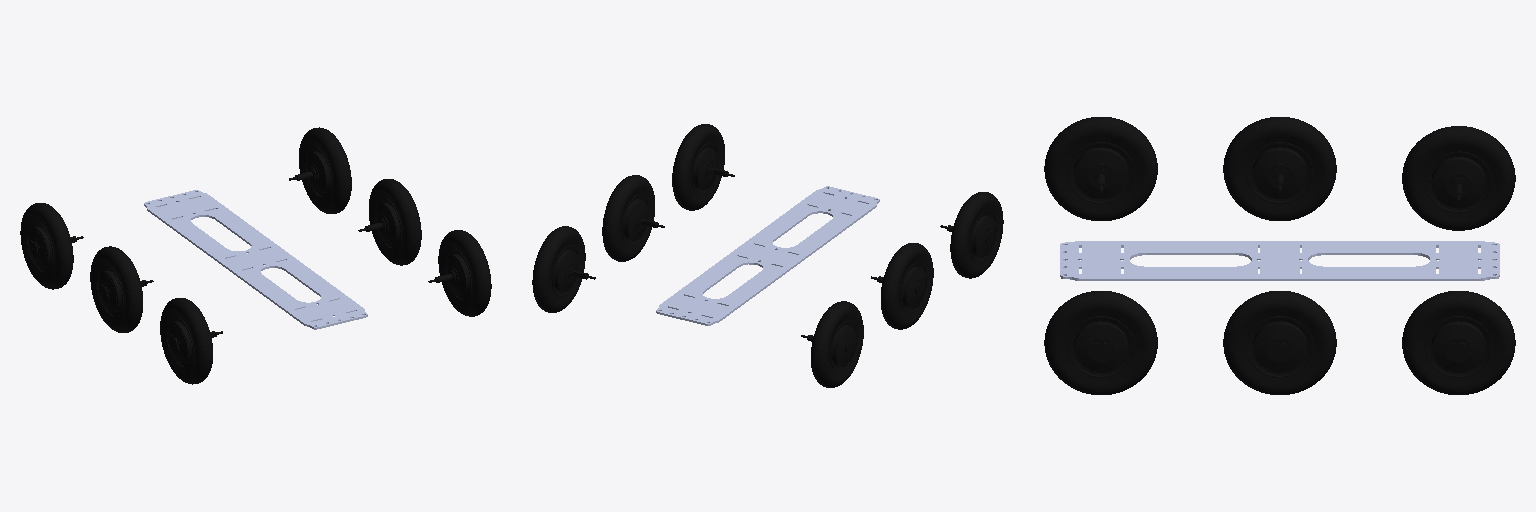
The robot description file, URDF, robot "propbot_model":
<?xml version="1.0" encoding="utf-8"?>
<!-- This URDF was automatically created by SolidWorks to URDF Exporter! Originally created by [author] ([email redacted]) 
     Commit Version: 1.5.1-0-g916b5db  Build Version: 1.5.7152.31018
     For more information, please see http://wiki.ros.org/sw_urdf_exporter 
     
    This file is not used directly. The auto-generated origin, mass, colour, and inertial values from this file
    have been incorporated into the various *.urdf.xacro files that describe the Propbot model. 
     -->
<robot
  name="propbot_model">
  <link name="dummy"> <!-- Dummy link -->
   </link>
  <link
    name="base_link">
    <inertial>
      <origin
        xyz="4.95218820890092E-14 -8.48546876064446E-13 0.00290960833133145"
        rpy="0 0 0" />
      <mass
        value="0.962679505363189" />
      <inertia
        ixx="0.0833198554697182"
        ixy="-1.88264725669229E-14"
        ixz="2.52707604556368E-19"
        iyy="0.00390500151848884"
        iyz="7.03941797638526E-19"
        izz="0.0872183891998224" />
    </inertial>
    <visual>
      <origin
        xyz="0 0 0"
        rpy="0 0 0" />
      <geometry>
        <mesh
          filename="package://propbot_description/meshes/propbot_base_link.STL" />
      </geometry>
      <material
        name="">
        <color
          rgba="0.792156862745098 0.819607843137255 0.933333333333333 1" />
      </material>
    </visual>
    <collision>
      <origin
        xyz="0 0 0"
        rpy="0 0 0" />
      <geometry>
        <mesh
          filename="package://propbot_description/meshes/propbot_base_link.STL" />
      </geometry>
    </collision>
  </link>
  <joint name="dummy_joint" type="fixed">
     <parent link="dummy"/>
     <child link="base_link"/>
   </joint>
  <link
    name="base_link_to_main_frame">
    <inertial>
      <origin
        xyz="-0.00496155771438296 0.106799169308496 0.422430478496276"
        rpy="0 0 0" />
      <mass
        value="19.5224637441654" />
      <inertia
        ixx="0.422262141846948"
        ixy="0.000284153906144455"
        ixz="-0.000121491558893702"
        iyy="0.469729182496518"
        iyz="0.000168179565731358"
        izz="0.162384348770874" />
    </inertial>
    <visual>
      <origin
        xyz="0 0 0"
        rpy="0 0 0" />
      <geometry>
        <mesh
          filename="package://propbot_description/meshes/propbot_chassis.STL" />
      </geometry>
      <material
        name="">
        <color
          rgba="1 0 0 1" />
      </material>
    </visual>
    <collision>
      <origin
        xyz="0 0 0"
        rpy="0 0 0" />
      <geometry>
        <mesh
          filename="package://propbot_description/meshes/propbot_chassis.STL" />
      </geometry>
    </collision>
  </link>
  <joint
    name="main_frame"
    type="fixed">
    <origin
      xyz="0 0.45 -0.000270761367234723"
      rpy="1.5707963267949 0 0" />
    <parent
      link="base_link" />
    <child
      link="base_link_to_main_frame" />
    <axis
      xyz="0 0 0" />
  </joint>
  <link
    name="base_to_right_front_wheel">
    <inertial>
      <origin
        xyz="0.000353218204334815 1.49654594272519E-14 -3.3080417334852E-06"
        rpy="0 0 0" />
      <mass
        value="2.9654201869257" />
      <inertia
        ixx="0.0187458318918593"
        ixy="1.05441040594404E-15"
        ixz="6.83080846647317E-07"
        iyy="0.0101188924668576"
        iyz="-4.64239151497712E-08"
        izz="0.0101188143745007" />
    </inertial>
    <visual>
      <origin
        xyz="0 0 0"
        rpy="0 0 0" />
      <geometry>
        <mesh
          filename="package://propbot_description/meshes/propbot_wheel.STL" />
      </geometry>
      <material
        name="">
        <color
          rgba="0.109803921568627 0.109803921568627 0.109803921568627 1" />
      </material>
    </visual>
    <collision>
      <origin
        xyz="0 0 0"
        rpy="0 0 0" />
      <geometry>
        <mesh
          filename="package://propbot_description/meshes/propbot_wheel.STL" />
      </geometry>
    </collision>
  </link>
  <joint
    name="right_front_wheel"
    type="revolute">
    <origin
      xyz="0.45984 0.015032 0.05"
      rpy="3.1416 0 3.1416" />
    <parent
      link="base_link_to_main_frame" />
    <child
      link="base_to_right_front_wheel" />
    <axis
      xyz="0 0 0" />
    <limit
      lower="0"
      upper="0"
      effort="0"
      velocity="0" />
  </joint>
  <link
    name="base_to_right_middle_wheel">
    <inertial>
      <origin
        xyz="0.000353218204334871 1.49654594272519E-14 -3.30804173355509E-06"
        rpy="0 0 0" />
      <mass
        value="2.9654201869257" />
      <inertia
        ixx="0.0187458318918593"
        ixy="1.05463798889347E-15"
        ixz="6.83080846648007E-07"
        iyy="0.0101188924668576"
        iyz="-4.64239151473157E-08"
        izz="0.0101188143745007" />
    </inertial>
    <visual>
      <origin
        xyz="0 0 0"
        rpy="0 0 0" />
      <geometry>
        <mesh
          filename="package://propbot_description/meshes/propbot_wheel.STL" />
      </geometry>
      <material
        name="">
        <color
          rgba="0.109803921568627 0.109803921568627 0.109803921568627 1" />
      </material>
    </visual>
    <collision>
      <origin
        xyz="0 0 0"
        rpy="0 0 0" />
      <geometry>
        <mesh
          filename="package://propbot_description/meshes/propbot_wheel.STL" />
      </geometry>
    </collision>
  </link>
  <joint
    name="right_middle_wheel"
    type="revolute">
    <origin
      xyz="0.45984 0.015032 0.45"
      rpy="3.1416 0 3.1416" />
    <parent
      link="base_link_to_main_frame" />
    <child
      link="base_to_right_middle_wheel" />
    <axis
      xyz="0 0 0" />
    <limit
      lower="0"
      upper="0"
      effort="0"
      velocity="0" />
  </joint>
  <link
    name="base_to_right_back_wheel">
    <inertial>
      <origin
        xyz="0.000353218204334815 1.49515816394441E-14 -3.3080417334852E-06"
        rpy="0 0 0" />
      <mass
        value="2.9654201869257" />
      <inertia
        ixx="0.0187458318918593"
        ixy="1.05487522045234E-15"
        ixz="6.83080846648002E-07"
        iyy="0.0101188924668576"
        iyz="-4.64239151471001E-08"
        izz="0.0101188143745007" />
    </inertial>
    <visual>
      <origin
        xyz="0 0 0"
        rpy="0 0 0" />
      <geometry>
        <mesh
          filename="package://propbot_description/meshes/propbot_wheel.STL" />
      </geometry>
      <material
        name="">
        <color
          rgba="0.109803921568627 0.109803921568627 0.109803921568627 1" />
      </material>
    </visual>
    <collision>
      <origin
        xyz="0 0 0"
        rpy="0 0 0" />
      <geometry>
        <mesh
          filename="package://propbot_description/meshes/propbot_wheel.STL" />
      </geometry>
    </collision>
  </link>
  <joint
    name="right_back_wheel"
    type="revolute">
    <origin
      xyz="0.45984 0.015032 0.85"
      rpy="3.1416 0 3.1416" />
    <parent
      link="base_link_to_main_frame" />
    <child
      link="base_to_right_back_wheel" />
    <axis
      xyz="0 0 0" />
    <limit
      lower="0"
      upper="0"
      effort="0"
      velocity="0" />
  </joint>
  <link
    name="base_to_left_front_wheel">
    <inertial>
      <origin
        xyz="0.000353218204334815 1.49723983211558E-14 -3.30804173354071E-06"
        rpy="0 0 0" />
      <mass
        value="2.9654201869257" />
      <inertia
        ixx="0.0187458318918593"
        ixy="1.05566480354607E-15"
        ixz="6.83080846646722E-07"
        iyy="0.0101188924668576"
        iyz="-4.64239151481091E-08"
        izz="0.0101188143745007" />
    </inertial>
    <visual>
      <origin
        xyz="0 0 0"
        rpy="0 0 0" />
      <geometry>
        <mesh
          filename="package://propbot_description/meshes/propbot_wheel.STL" />
      </geometry>
      <material
        name="">
        <color
          rgba="0.109803921568627 0.109803921568627 0.109803921568627 1" />
      </material>
    </visual>
    <collision>
      <origin
        xyz="0 0 0"
        rpy="0 0 0" />
      <geometry>
        <mesh
          filename="package://propbot_description/meshes/propbot_wheel.STL" />
      </geometry>
    </collision>
  </link>
  <joint
    name="left_front_wheel"
    type="revolute">
    <origin
      xyz="-0.45996 -0.0076 0.05"
      rpy="0 0 0" />
    <parent
      link="base_link_to_main_frame" />
    <child
      link="base_to_left_front_wheel" />
    <axis
      xyz="0 0 0" />
    <limit
      lower="0"
      upper="0"
      effort="0"
      velocity="0" />
  </joint>
  <link
    name="base_to_left_middle_wheel">
    <inertial>
      <origin
        xyz="0.00035321820433476 1.49793372150597E-14 -3.30804173353209E-06"
        rpy="0 0 0" />
      <mass
        value="2.9654201869257" />
      <inertia
        ixx="0.0187458318918593"
        ixy="1.05456887700731E-15"
        ixz="6.83080846648231E-07"
        iyy="0.0101188924668576"
        iyz="-4.64239151484789E-08"
        izz="0.0101188143745007" />
    </inertial>
    <visual>
      <origin
        xyz="0 0 0"
        rpy="0 0 0" />
      <geometry>
        <mesh
          filename="package://propbot_description/meshes/propbot_wheel.STL" />
      </geometry>
      <material
        name="">
        <color
          rgba="0.109803921568627 0.109803921568627 0.109803921568627 1" />
      </material>
    </visual>
    <collision>
      <origin
        xyz="0 0 0"
        rpy="0 0 0" />
      <geometry>
        <mesh
          filename="package://propbot_description/meshes/propbot_wheel.STL" />
      </geometry>
    </collision>
  </link>
  <joint
    name="left_middle_wheel"
    type="revolute">
    <origin
      xyz="-0.45996 0.0155 0.45"
      rpy="0 0 0" />
    <parent
      link="base_link_to_main_frame" />
    <child
      link="base_to_left_middle_wheel" />
    <axis
      xyz="0 0 0" />
    <limit
      lower="0"
      upper="0"
      effort="0"
      velocity="0" />
  </joint>
  <link
    name="base_to_left_back_wheel">
    <inertial>
      <origin
        xyz="0.000353218204334815 1.49845413854877E-14 -3.3080417334852E-06"
        rpy="0 0 0" />
      <mass
        value="2.9654201869257" />
      <inertia
        ixx="0.0187458318918593"
        ixy="1.05506916013193E-15"
        ixz="6.83080846647518E-07"
        iyy="0.0101188924668576"
        iyz="-4.64239151500435E-08"
        izz="0.0101188143745007" />
    </inertial>
    <visual>
      <origin
        xyz="0 0 0"
        rpy="0 0 0" />
      <geometry>
        <mesh
          filename="package://propbot_description/meshes/propbot_wheel.STL" />
      </geometry>
      <material
        name="">
        <color
          rgba="0.109803921568627 0.109803921568627 0.109803921568627 1" />
      </material>
    </visual>
    <collision>
      <origin
        xyz="0 0 0"
        rpy="0 0 0" />
      <geometry>
        <mesh
          filename="package://propbot_description/meshes/propbot_wheel.STL" />
      </geometry>
    </collision>
  </link>
  <joint
    name="left_back_wheel"
    type="revolute">
    <origin
      xyz="-0.45996 0.0155 0.85"
      rpy="0 0 0" />
    <parent
      link="base_link_to_main_frame" />
    <child
      link="base_to_left_back_wheel" />
    <axis
      xyz="0 0 0" />
    <limit
      lower="0"
      upper="0"
      effort="0"
      velocity="0" />
  </joint>
</robot>

--- Facts derived from the render (not from the file) ---
3 views of the same robot in one strip: view 1: azimuth 30°, elevation 25°; view 2: azimuth 150°, elevation 25°; view 3: azimuth 270°, elevation 25° (orthographic).
Model propbot_model with 9 links and 8 joints (6 revolute, 2 fixed), rooted at dummy, posed all joints at 0.
Visible links, largest first — view 1: base_link, base_to_right_back_wheel, base_to_right_front_wheel, base_to_left_back_wheel, base_to_right_middle_wheel, base_to_left_front_wheel, base_to_left_middle_wheel; view 2: base_link, base_to_right_front_wheel, base_to_right_back_wheel, base_to_left_front_wheel, base_to_left_middle_wheel, base_to_right_middle_wheel, base_to_left_back_wheel; view 3: base_link, base_to_left_front_wheel, base_to_right_middle_wheel, base_to_left_middle_wheel, base_to_right_front_wheel, base_to_right_back_wheel, base_to_left_back_wheel.
Boxes of the visible links, bbox=[...] form: base_link: bbox=[144, 190, 367, 329]; base_to_right_back_wheel: bbox=[428, 230, 491, 316]; base_to_right_front_wheel: bbox=[289, 127, 351, 213]; base_to_left_back_wheel: bbox=[160, 298, 222, 384]; base_to_right_middle_wheel: bbox=[358, 179, 421, 265]; base_to_left_front_wheel: bbox=[20, 203, 83, 289]; base_to_left_middle_wheel: bbox=[90, 246, 153, 332]; base_link: bbox=[656, 186, 879, 325]; base_to_right_front_wheel: bbox=[532, 226, 595, 312]; base_to_right_back_wheel: bbox=[672, 124, 734, 210]; base_to_left_front_wheel: bbox=[801, 301, 863, 387]; base_to_left_middle_wheel: bbox=[871, 243, 933, 329]; base_to_right_middle_wheel: bbox=[602, 175, 664, 261]; base_to_left_back_wheel: bbox=[940, 192, 1003, 278]; base_link: bbox=[1060, 241, 1499, 280]; base_to_left_front_wheel: bbox=[1402, 126, 1515, 230]; base_to_right_middle_wheel: bbox=[1223, 291, 1336, 394]; base_to_left_middle_wheel: bbox=[1223, 117, 1336, 220]; base_to_right_front_wheel: bbox=[1402, 291, 1515, 394]; base_to_right_back_wheel: bbox=[1044, 291, 1157, 394]; base_to_left_back_wheel: bbox=[1044, 117, 1157, 220].
Bounding box of the posed robot: 1.01 × 1.05 × 0.2771 m (x, y, z).
Meshes: 3 distinct files referenced, 7 mesh visuals loaded (2 binary STL); not drawn: 1 (reference not matched to a file when rendering).
